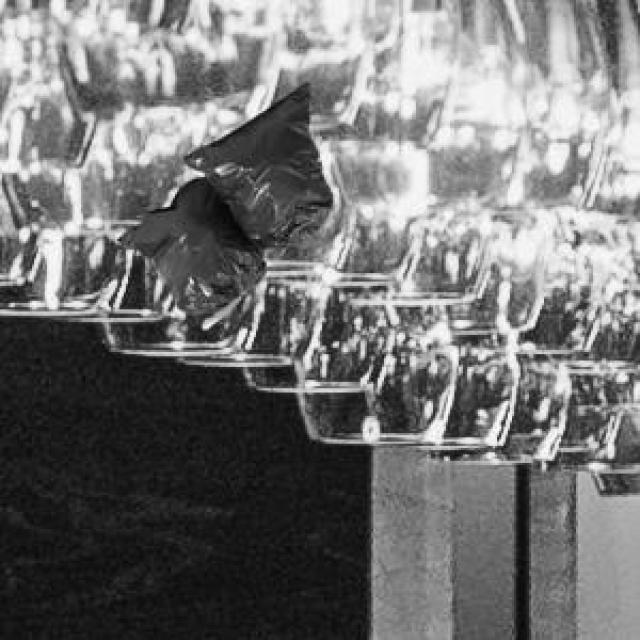miscellaneous trash: (113, 79, 329, 324)
